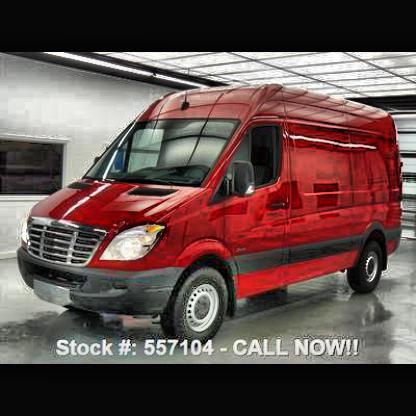Dodge Sprinter Cargo Van 2009: (19, 88, 405, 345)
